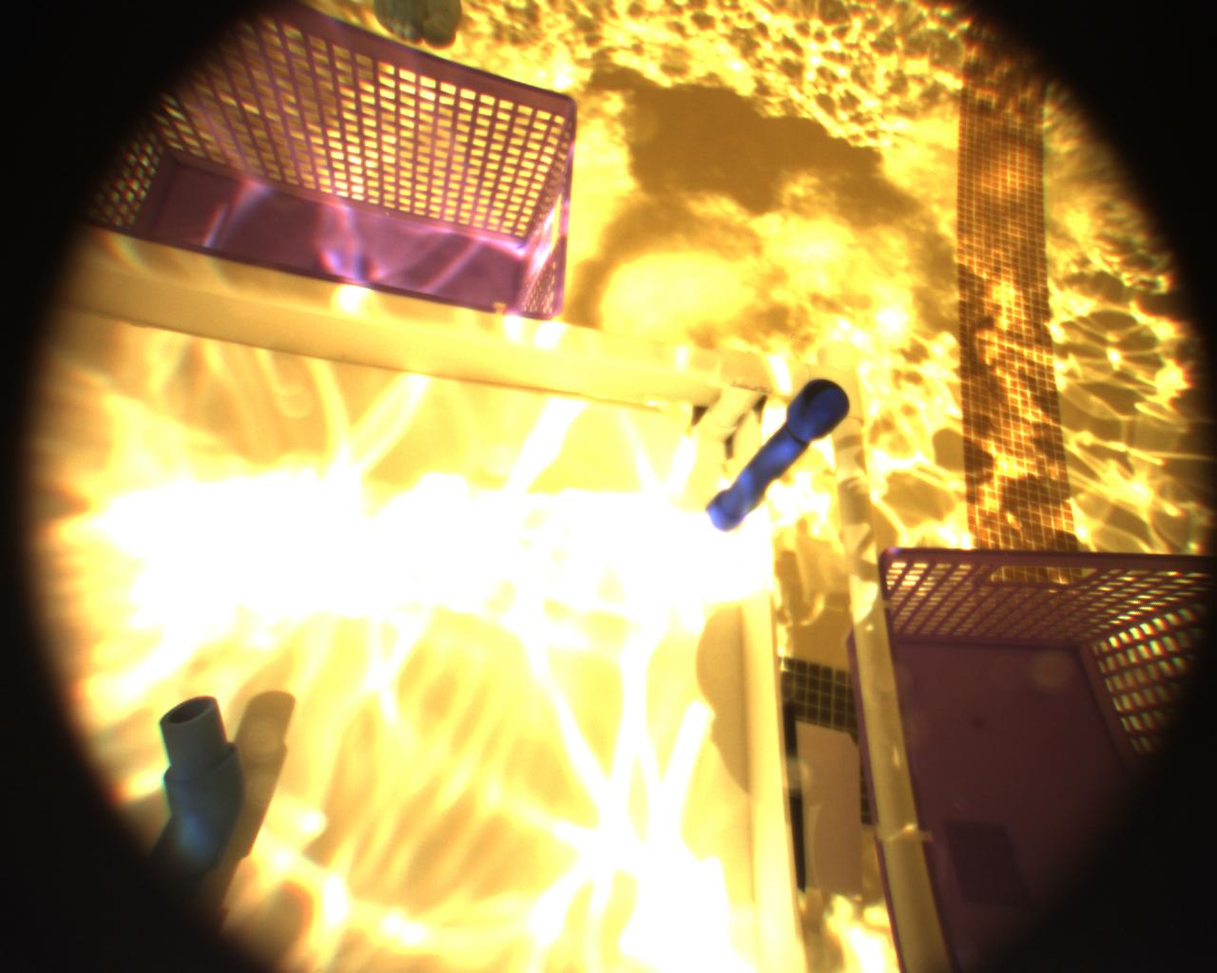coral: (0, 682, 324, 973), (696, 364, 854, 557)
coral-box-top: (20, 221, 857, 973)
